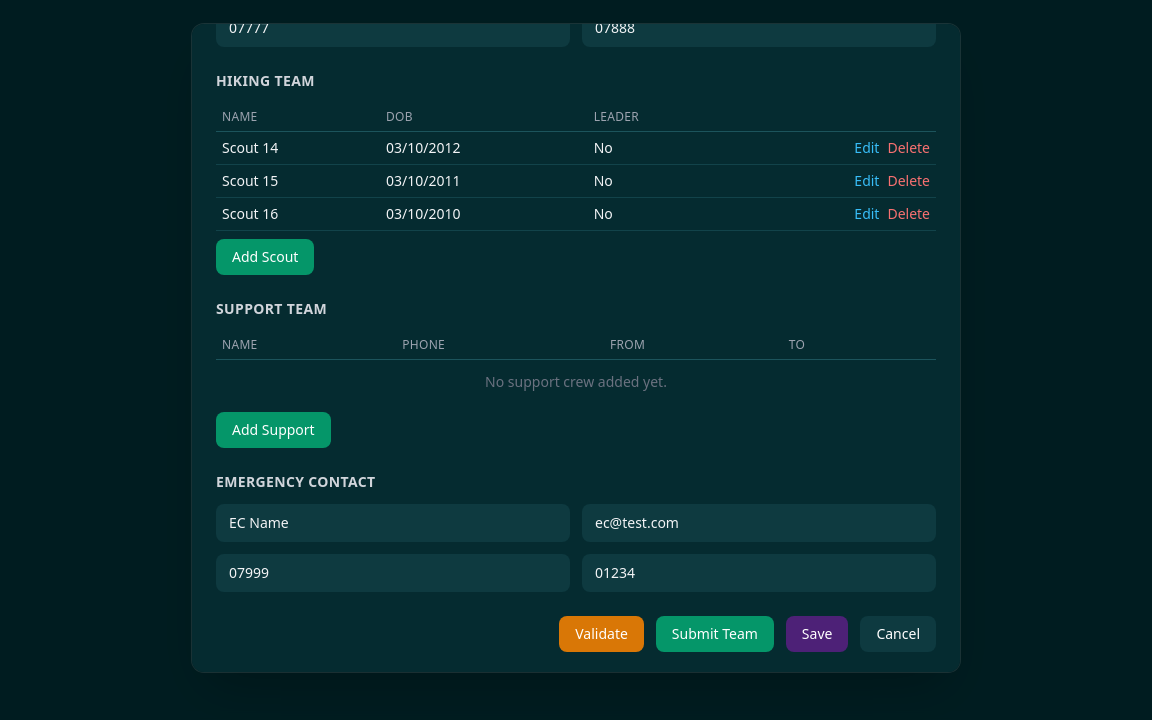
Test case: TeamDialog - Validate feedback › clears the success banner if a field is edited after validating
(page scrolled)
Click the button "Validate".
click(602, 634)  # box [559, 616, 644, 652]
(page scrolled)
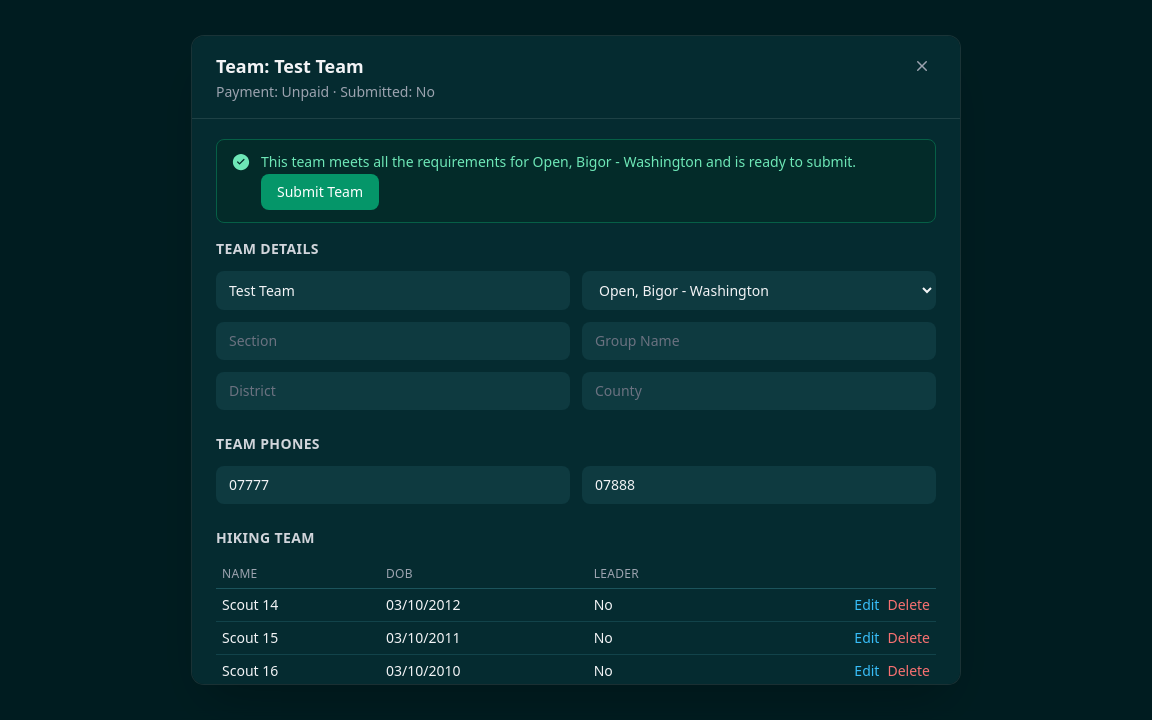
Expected: the text "meets all the requirements" is shown, [261, 152, 533, 171]
Replace the text in the field with placeholder "Team Name" below "Team Details" with "Renamed Team" at (393, 290), box [216, 271, 570, 310]
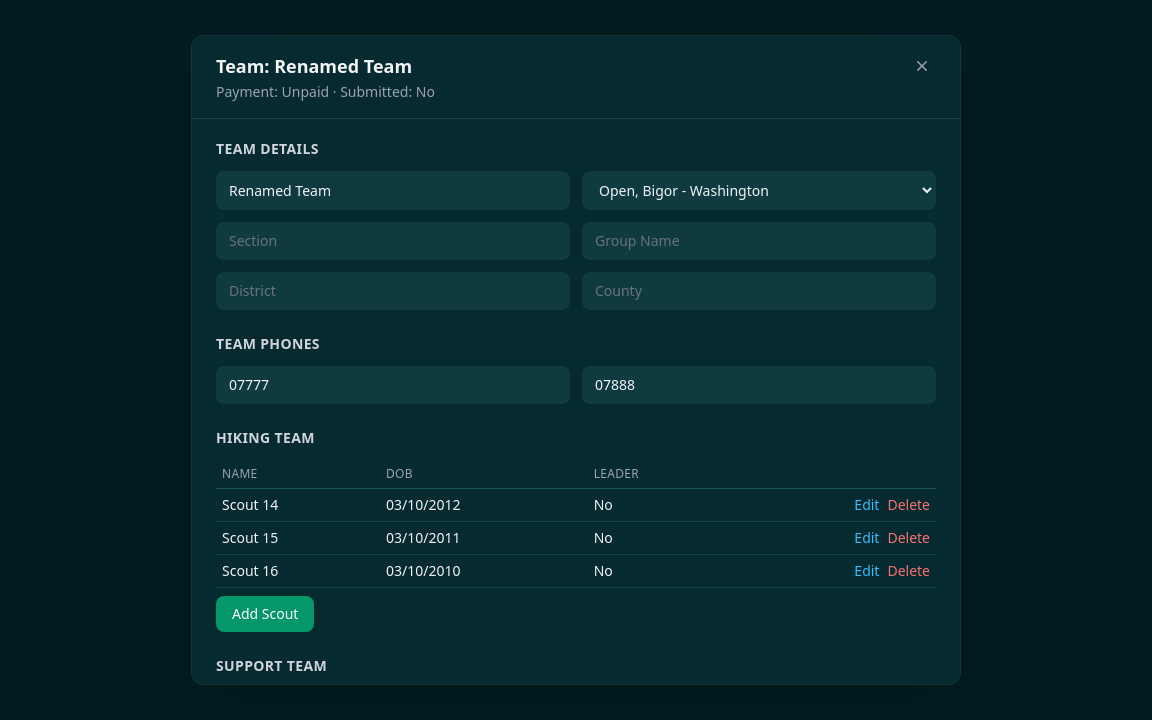
Expected: the text "meets all the requirements" is gone
